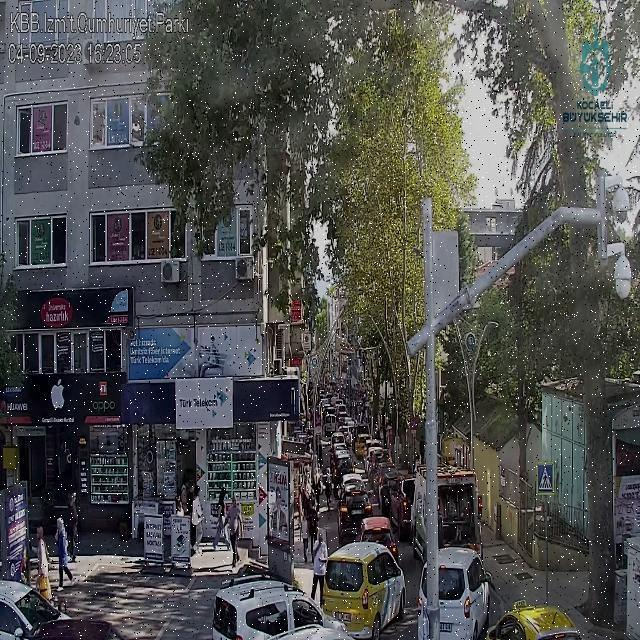Car: (414, 537, 503, 640), (320, 549, 420, 632), (205, 575, 322, 640), (0, 580, 86, 640), (481, 596, 591, 640), (333, 489, 378, 535)
